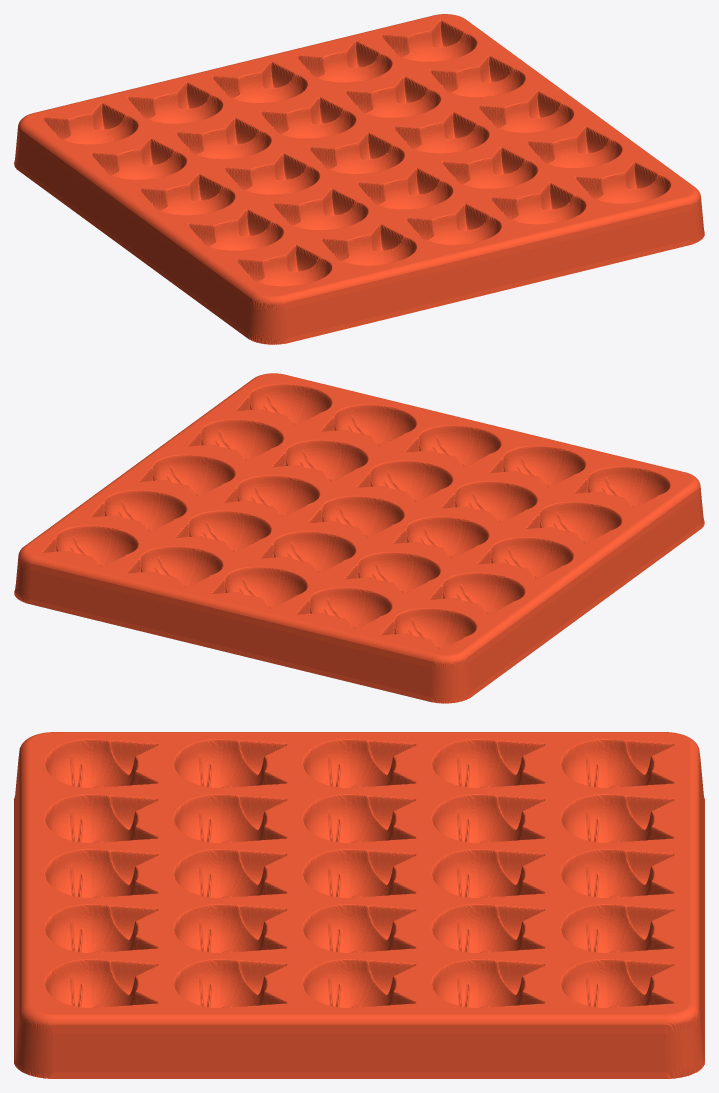
Rendered from mold.glb.
3 renders of one model, top to bottom at view 1: azimuth 30°, elevation 25°; view 2: azimuth 150°, elevation 25°; view 3: azimuth 270°, elevation 25°, orthographic. The views are drawn at different scales.
Parts seen in each view (by area): view 1: geometry_0; view 2: geometry_0; view 3: geometry_0.
Boxes of the visible parts, x1,y1,x2,y2 form: geometry_0: (14, 14, 704, 344); geometry_0: (14, 373, 704, 703); geometry_0: (14, 732, 704, 1078).
Bounding box in the file's own units: 0.1571 × 0.0145 × 0.1558.
